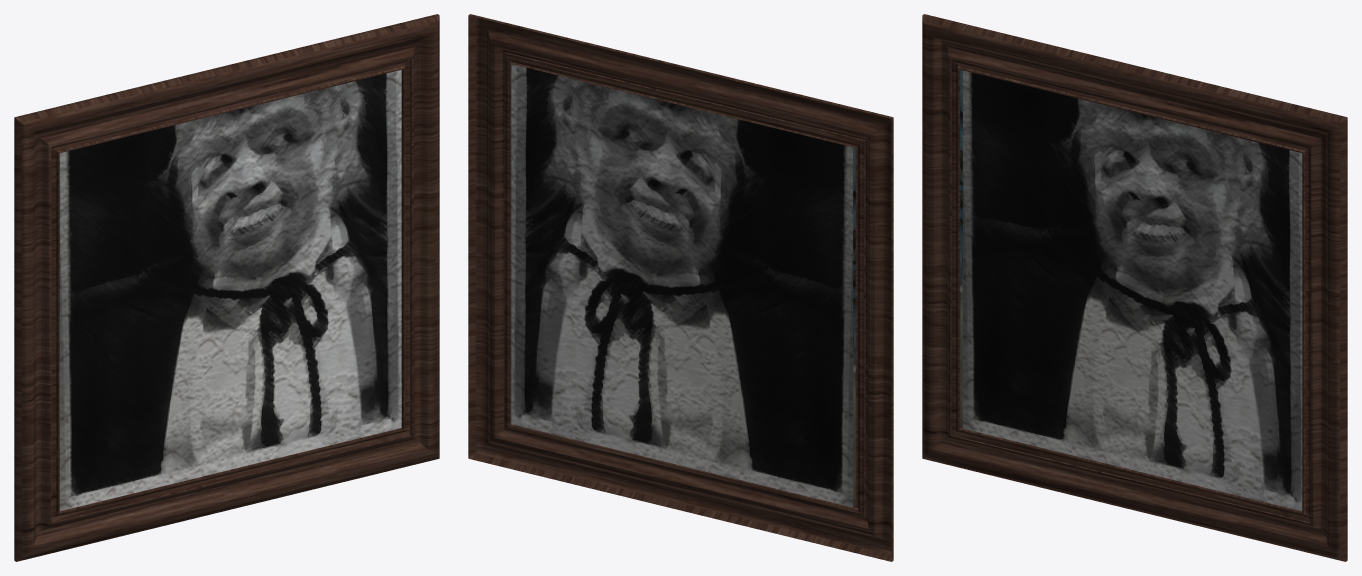
The model's file is Tableau8.fbx.
3 renders of one model, left to right at view 1: azimuth 30°, elevation 25°; view 2: azimuth 150°, elevation 25°; view 3: azimuth 330°, elevation 25°, orthographic.
Visible parts, largest first — view 1: Asset_Tableau_Moulure_A_low1; view 2: Asset_Tableau_Moulure_A_low1; view 3: Asset_Tableau_Moulure_A_low1.
Boxes of the visible parts, x1=… form: Asset_Tableau_Moulure_A_low1: x1=14, y1=14, x2=439, y2=561; Asset_Tableau_Moulure_A_low1: x1=468, y1=14, x2=893, y2=561; Asset_Tableau_Moulure_A_low1: x1=922, y1=14, x2=1347, y2=561.
Size of the model in its own units: 103 by 103 by 2.46.
Materials: 1 (1 with a texture image).
